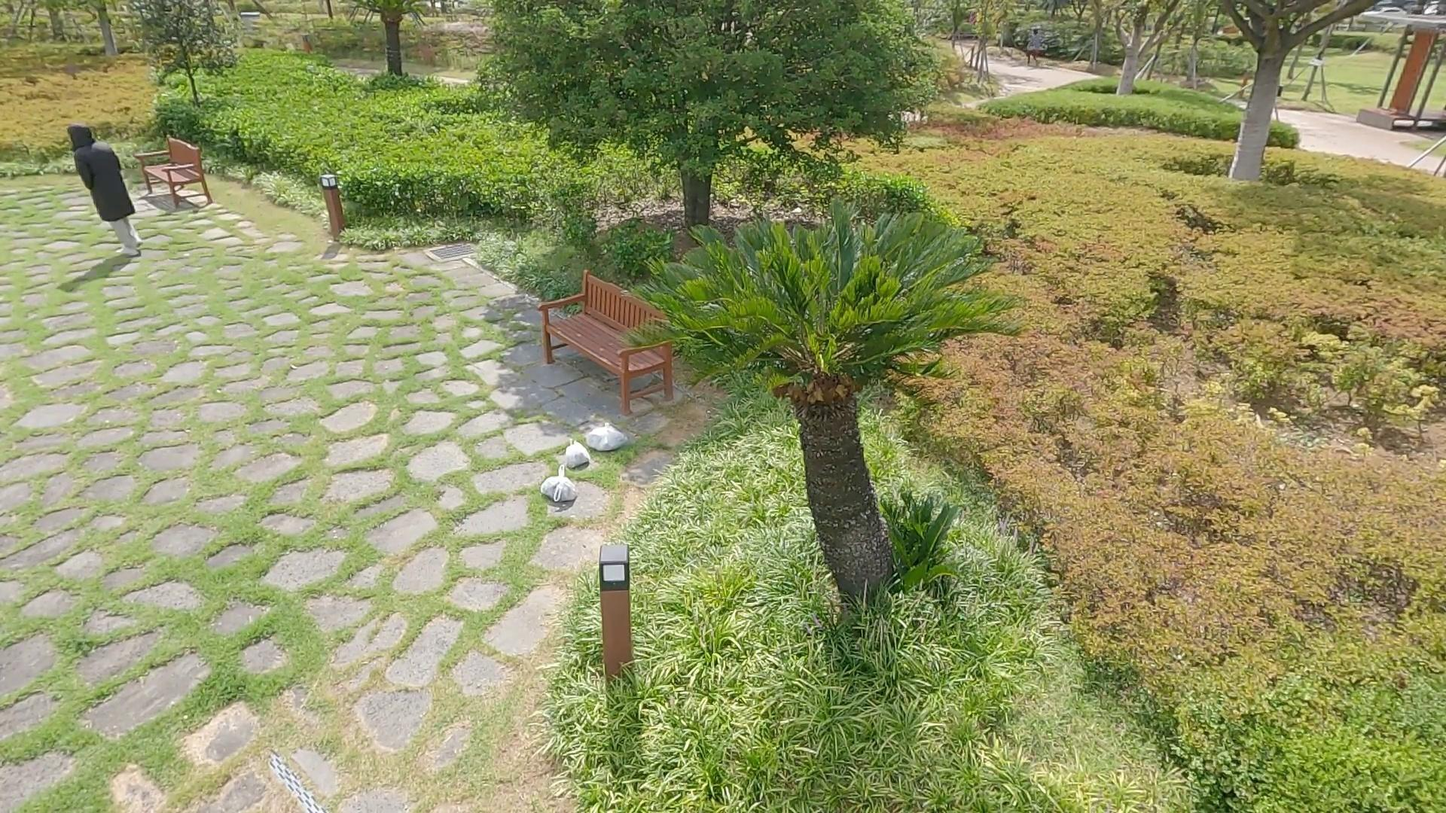person: (59, 122, 148, 262)
trash: (580, 414, 629, 460), (538, 465, 579, 509), (559, 440, 596, 466)
